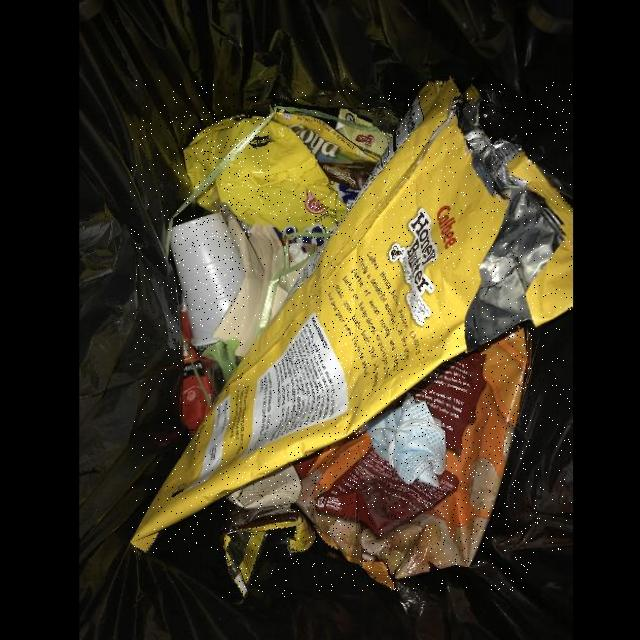paper: (213, 216, 285, 358), (227, 463, 302, 509), (337, 108, 392, 156)
plastic: (171, 214, 245, 346)
wrapper: (130, 80, 572, 553), (290, 327, 532, 591), (183, 112, 348, 239), (271, 108, 382, 191), (221, 504, 316, 598), (180, 310, 217, 434)
